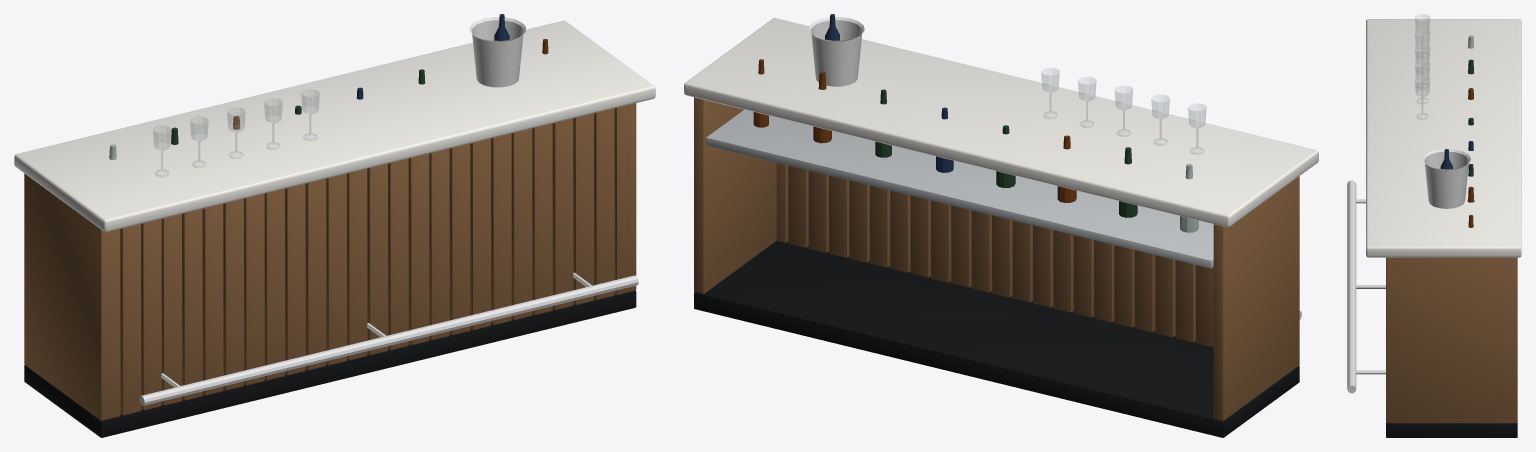
Rendered from marlin_bar.glb.
3 renders of one model, left to right at view 1: azimuth 30°, elevation 25°; view 2: azimuth 150°, elevation 25°; view 3: azimuth 270°, elevation 25°, orthographic. The views are drawn at different scales.
Parts seen in each view (by area): view 1: marlin_bar; view 2: marlin_bar; view 3: marlin_bar.
Part boxes in pixels (x1,y1,x2,y2): marlin_bar: (14,14,655,437); marlin_bar: (684,14,1318,437); marlin_bar: (1347,14,1521,437).
Bounding box in the file's own units: 2.68 × 1.35 × 0.862.
